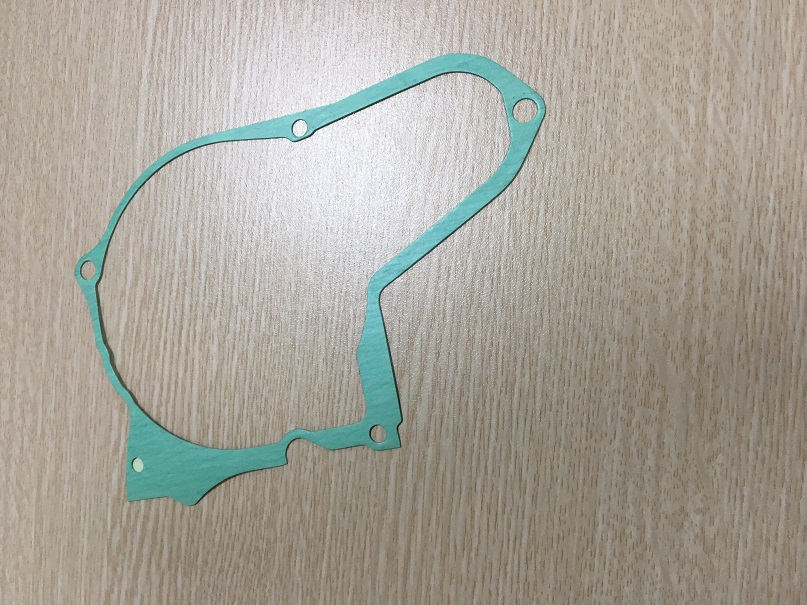type1: (64, 46, 550, 515)
